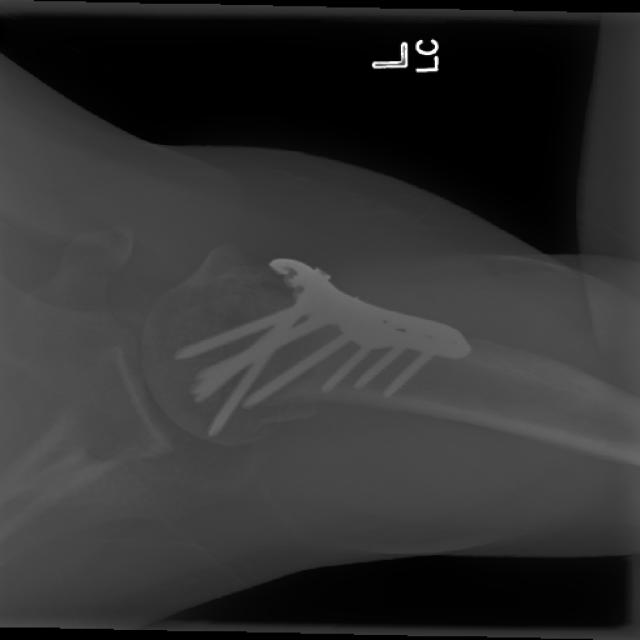shoulder fracture: (217, 353, 358, 467)
